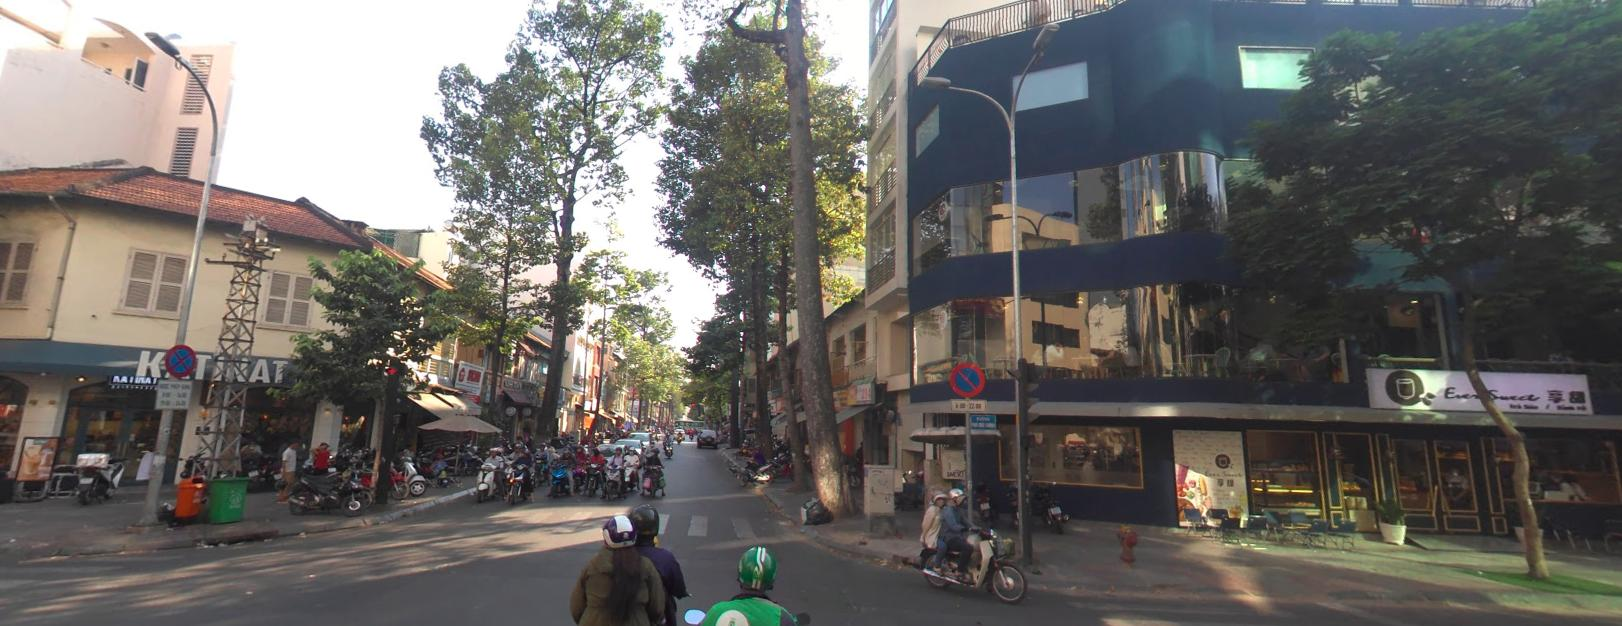Cam dung va do: (949, 358, 986, 397), (163, 342, 197, 375)
